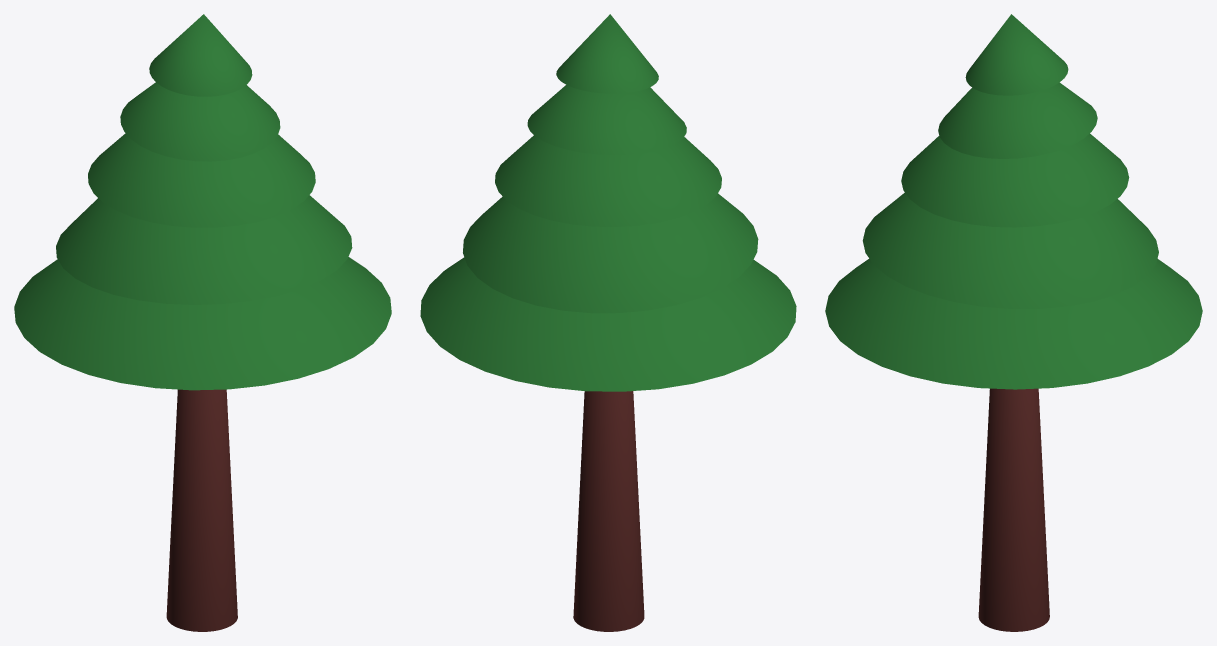
The model's file is SM_Tree02.fbx.
3 renders of one model, left to right at view 1: azimuth 30°, elevation 25°; view 2: azimuth 150°, elevation 25°; view 3: azimuth 270°, elevation 25°, orthographic.
Visible parts, largest first — view 1: SM_Tree02; view 2: SM_Tree02; view 3: SM_Tree02.
Boxes of the visible parts, left/top/right/bottom form: SM_Tree02: left=14, top=14, right=391, bottom=631; SM_Tree02: left=420, top=14, right=796, bottom=631; SM_Tree02: left=825, top=14, right=1202, bottom=631.
Bounding box in the file's own units: 159 × 280 × 159.
